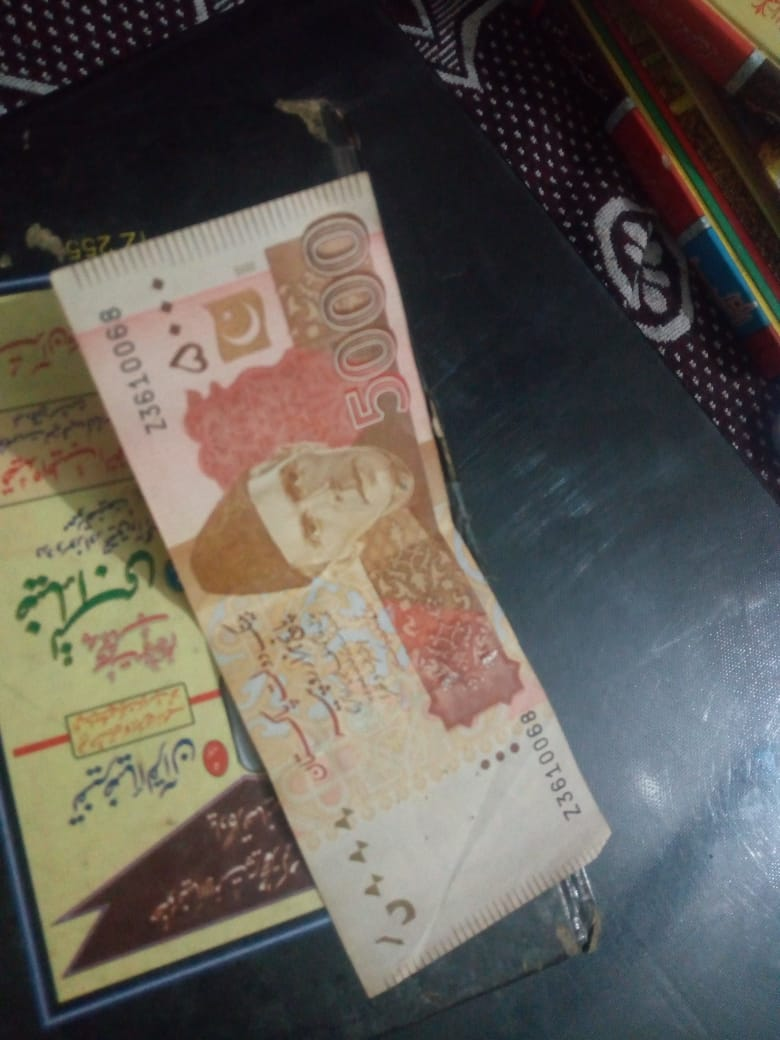5000 rupee: (40, 186, 609, 960)
